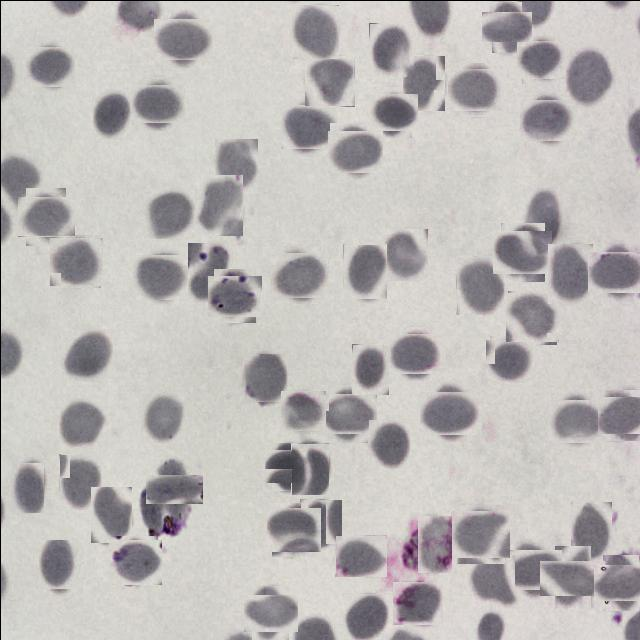red blood cell: (565, 46, 613, 107), (194, 174, 242, 235), (453, 507, 507, 560), (455, 255, 503, 314), (548, 243, 594, 303), (424, 386, 476, 439), (496, 225, 548, 278), (60, 328, 112, 380), (274, 248, 326, 300), (134, 250, 186, 302), (546, 552, 598, 603), (50, 235, 101, 286), (282, 102, 334, 152), (187, 242, 231, 301), (519, 187, 561, 248), (158, 13, 208, 64), (143, 188, 194, 238), (506, 292, 557, 342), (291, 4, 338, 58), (322, 388, 372, 438), (304, 56, 354, 106), (506, 544, 556, 594), (550, 396, 600, 446), (268, 504, 318, 554), (570, 501, 611, 561), (329, 126, 378, 176), (450, 64, 499, 114), (522, 95, 572, 144), (110, 537, 159, 587), (591, 246, 640, 296), (368, 22, 413, 76), (342, 243, 386, 298), (401, 54, 444, 110), (58, 397, 106, 447), (381, 228, 427, 280), (214, 138, 257, 193), (58, 453, 100, 509), (21, 192, 70, 240), (210, 271, 258, 319), (468, 554, 514, 604), (90, 486, 131, 542), (390, 329, 438, 376), (394, 578, 441, 626), (140, 391, 184, 442), (334, 534, 386, 576), (342, 592, 388, 639), (242, 352, 286, 401), (134, 80, 180, 126), (246, 590, 292, 636), (367, 418, 409, 468), (487, 337, 533, 382), (416, 514, 451, 572), (27, 43, 72, 88), (597, 558, 640, 605), (299, 498, 341, 546), (38, 540, 78, 590), (152, 466, 196, 511), (290, 442, 328, 494), (370, 90, 414, 134), (92, 89, 131, 138), (519, 37, 562, 81), (351, 343, 388, 394), (281, 388, 323, 432), (599, 392, 640, 436), (267, 446, 308, 486), (486, 6, 526, 46), (12, 462, 43, 512)
